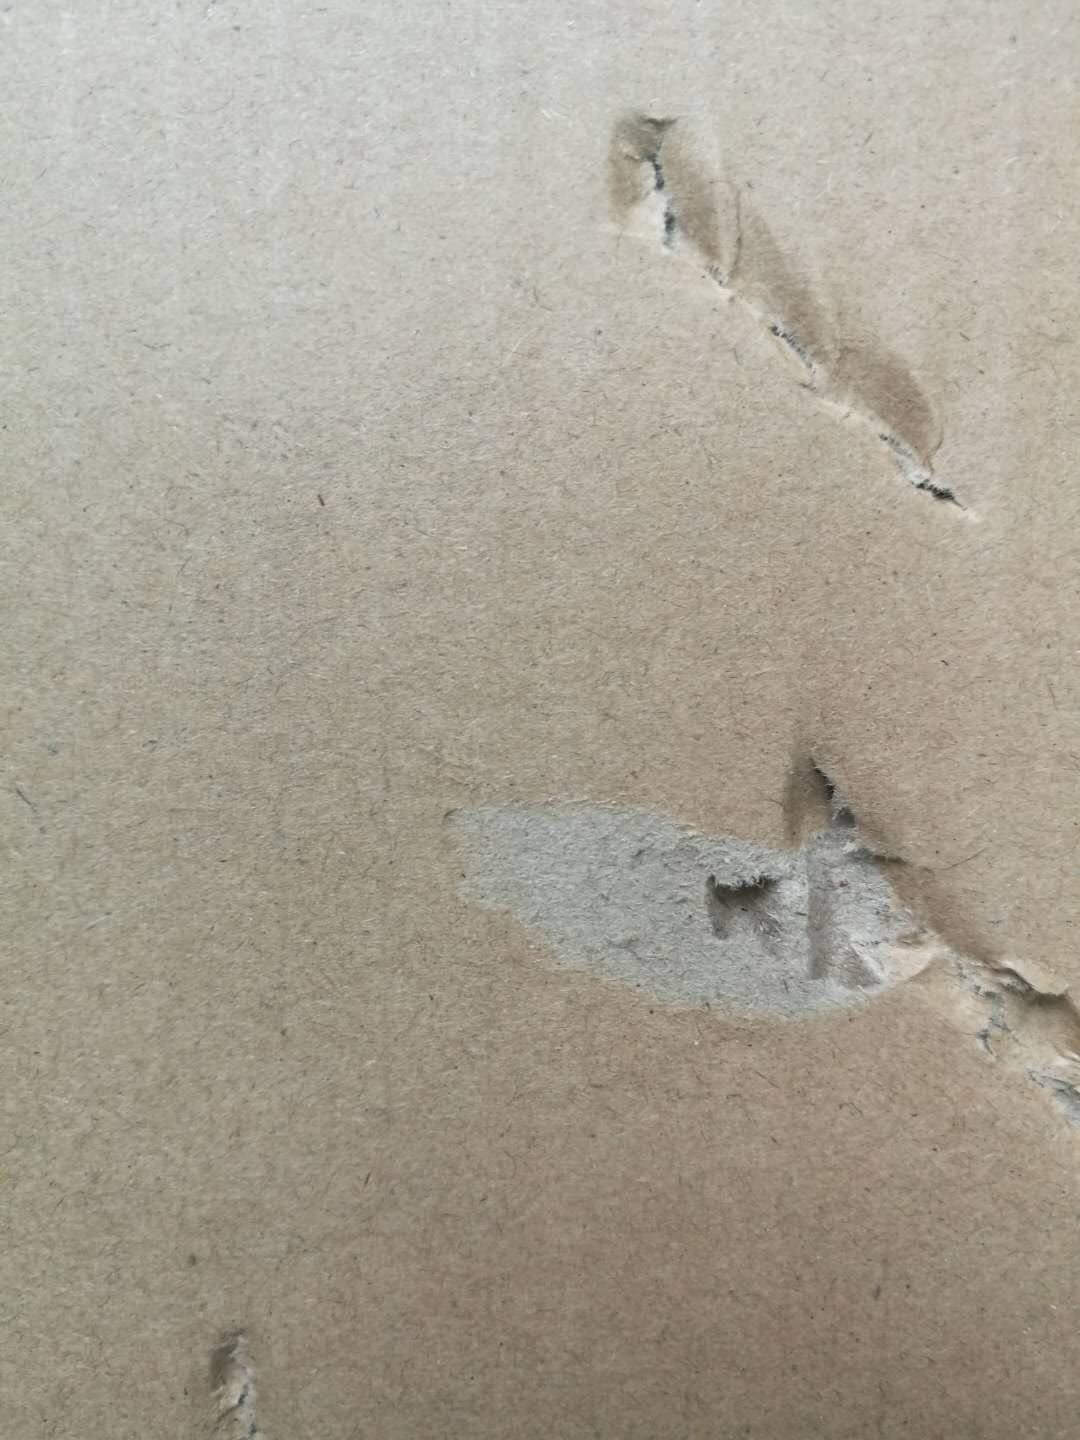defect: (429, 704, 1080, 1132), (587, 81, 995, 547), (174, 1313, 294, 1440)
